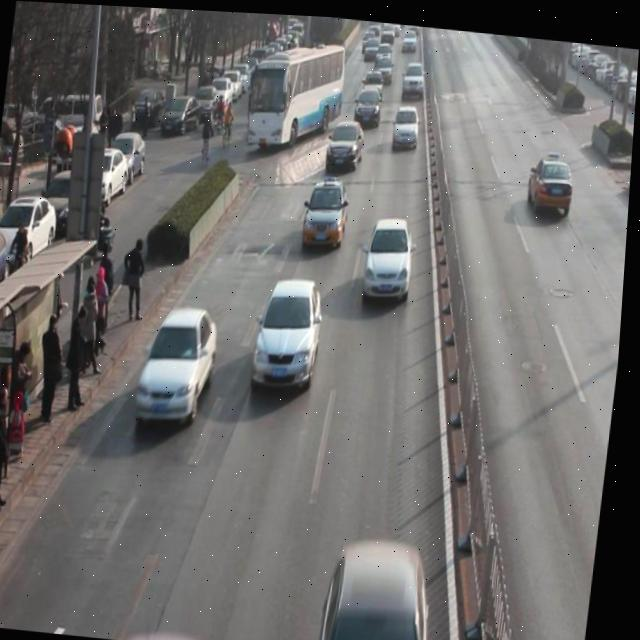car: (140, 298, 227, 429), (256, 271, 331, 389), (366, 211, 422, 302), (305, 173, 355, 250), (528, 150, 580, 212), (326, 114, 368, 170), (353, 80, 386, 126), (393, 99, 424, 147), (401, 55, 428, 94), (361, 65, 387, 101)
van: (247, 34, 350, 155)
